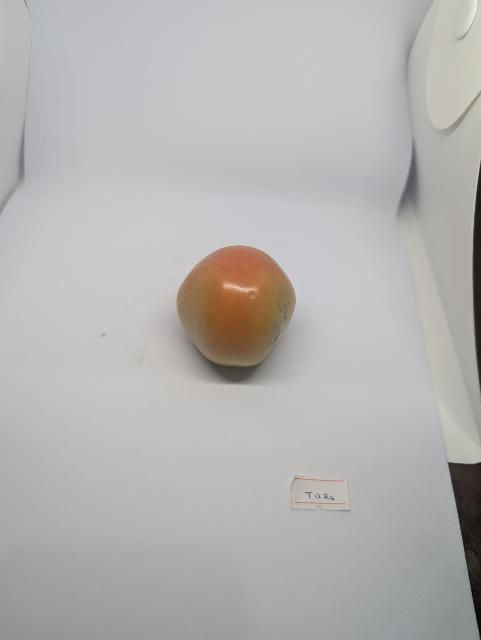turning: (169, 238, 317, 374)
